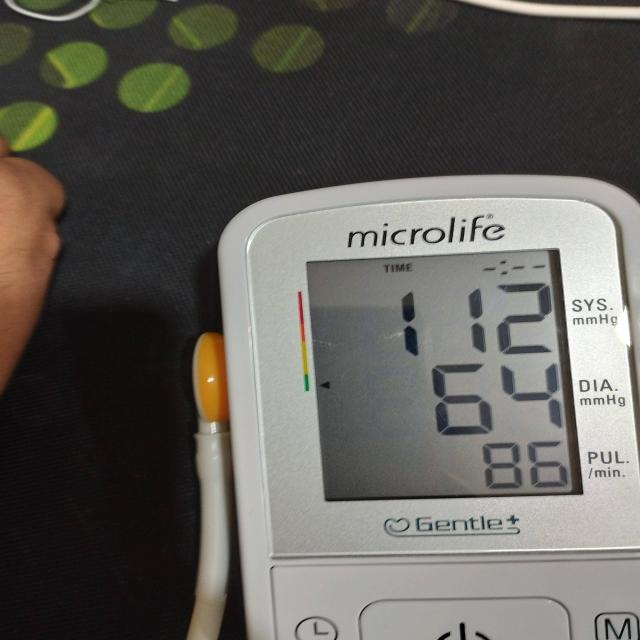bp: (216, 176, 640, 640)
